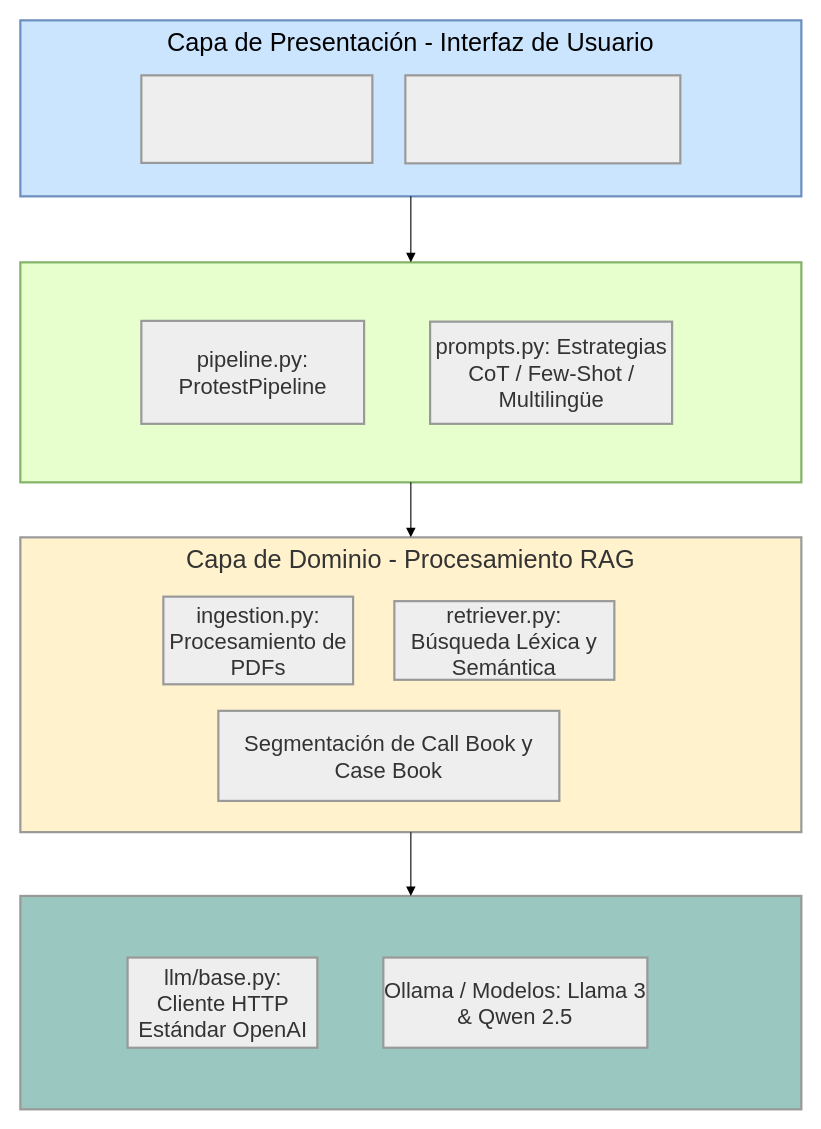
The diagram is 821 pixels wide and 1129 high, and some of its shapes have lost their labels. The box of each missing label's shape, as (x1, y1, x2, y2) in pixels:
app.py: Gradio UI: (140, 74, 373, 163)
Capa de Aplicación - Lógica de Negocio: (19, 261, 802, 483)
Capa de Infraestructura - Motores de Inferencia: (19, 894, 802, 1110)
Entrada: Relatos / Configuración de Modelo y Prompt: (404, 74, 681, 164)
